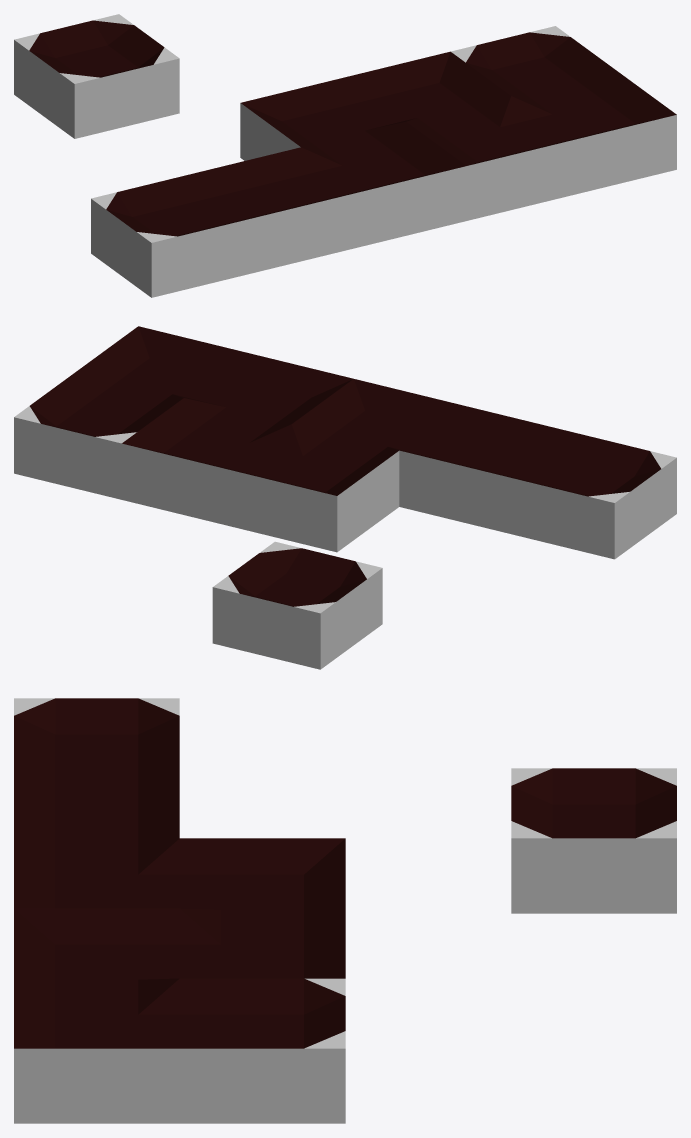
File: 73f_path.obj
3 renders of one model, top to bottom at view 1: azimuth 30°, elevation 25°; view 2: azimuth 150°, elevation 25°; view 3: azimuth 270°, elevation 25°, orthographic. The views are drawn at different scales.
Parts seen in each view (by area): view 1: foil.hole.1.4_Cube.297, foil.ending.0.1_ending.591, foil.through.1.1_through.304, foil.corner.2.1_corner.1468, foil.corner.4.1_corner.1472, foil.corner.3.1_corner.1470, foil.corner.2.2_corner.1469, foil.corner.3.2_corner.1471, foil.ending.4.2_ending.592; view 2: foil.hole.1.4_Cube.297, foil.ending.0.1_ending.591, foil.corner.2.2_corner.1469, foil.through.1.1_through.304, foil.corner.3.2_corner.1471, foil.ending.4.2_ending.592, foil.corner.2.1_corner.1468, foil.corner.4.1_corner.1472, foil.corner.3.1_corner.1470; view 3: foil.ending.4.2_ending.592, foil.hole.1.4_Cube.297, foil.corner.4.1_corner.1472, foil.corner.2.2_corner.1469, foil.corner.3.1_corner.1470, foil.ending.0.1_ending.591, foil.through.1.1_through.304, foil.corner.3.2_corner.1471, foil.corner.2.1_corner.1468.
Boxes of the visible parts, x1,y1,x2,y2 form: foil.hole.1.4_Cube.297: (14,14,179,138); foil.ending.0.1_ending.591: (91,173,256,297); foil.through.1.1_through.304: (196,147,361,271); foil.corner.2.1_corner.1468: (301,122,466,246); foil.corner.4.1_corner.1472: (511,70,676,195); foil.corner.3.1_corner.1470: (406,96,571,220); foil.corner.2.2_corner.1469: (240,77,405,160); foil.corner.3.2_corner.1471: (345,51,510,128); foil.ending.4.2_ending.592: (451,26,615,103); foil.hole.1.4_Cube.297: (212,541,382,669); foil.ending.0.1_ending.591: (507,431,676,559); foil.corner.2.2_corner.1469: (229,424,399,552); foil.through.1.1_through.304: (399,405,568,532); foil.corner.3.2_corner.1471: (121,398,291,525); foil.ending.4.2_ending.592: (14,372,183,499); foil.corner.2.1_corner.1468: (292,379,461,457); foil.corner.4.1_corner.1472: (76,326,245,405); foil.corner.3.1_corner.1470: (184,352,353,431); foil.ending.4.2_ending.592: (179,978,345,1123); foil.hole.1.4_Cube.297: (511,768,676,913); foil.corner.4.1_corner.1472: (14,978,179,1123); foil.corner.2.2_corner.1469: (179,838,345,927); foil.corner.3.1_corner.1470: (14,908,179,997); foil.ending.0.1_ending.591: (14,698,179,786); foil.through.1.1_through.304: (14,768,179,857); foil.corner.3.2_corner.1471: (179,908,345,978); foil.corner.2.1_corner.1468: (14,838,179,908).
Size of the model in its own units: 10 by 1 by 8.
